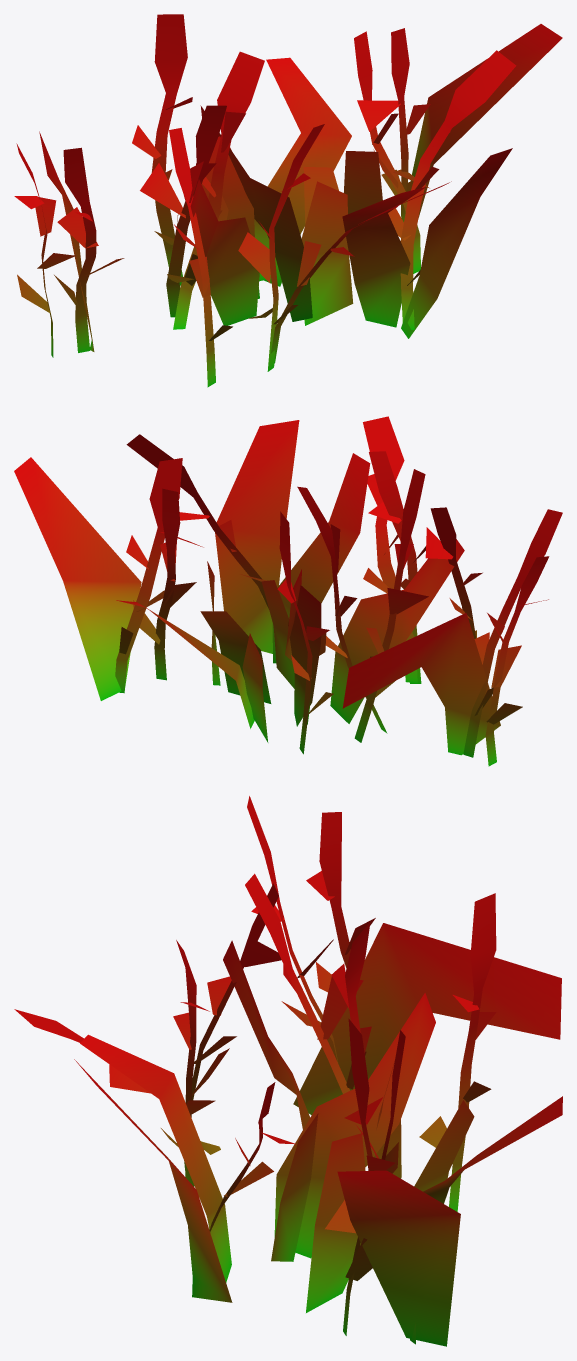
Rendered from Var4_LOD2.fbx.
The picture shows the model from 3 angles, top to bottom: view 1: azimuth 30°, elevation 25°; view 2: azimuth 150°, elevation 25°; view 3: azimuth 270°, elevation 25°; orthographic projection. The views are drawn at different scales.
Parts seen in each view (by area): view 1: _f9ac_Var4_LOD2; view 2: _f9ac_Var4_LOD2; view 3: _f9ac_Var4_LOD2.
Part boxes in pixels (<box>): _f9ac_Var4_LOD2: <box>14,14,562,387</box>; _f9ac_Var4_LOD2: <box>14,416,562,766</box>; _f9ac_Var4_LOD2: <box>14,796,562,1346</box>.
Bounding box in the file's own units: 16.61 × 7.75 × 11.62.
